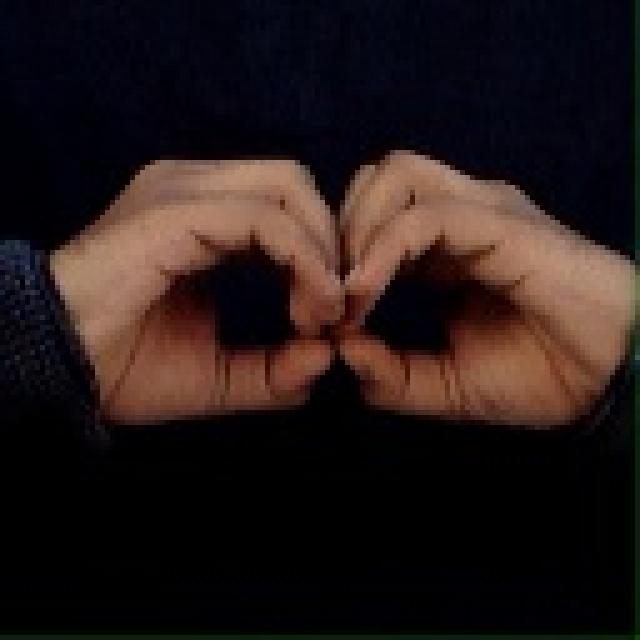Alphabet-B: (36, 148, 630, 438)
